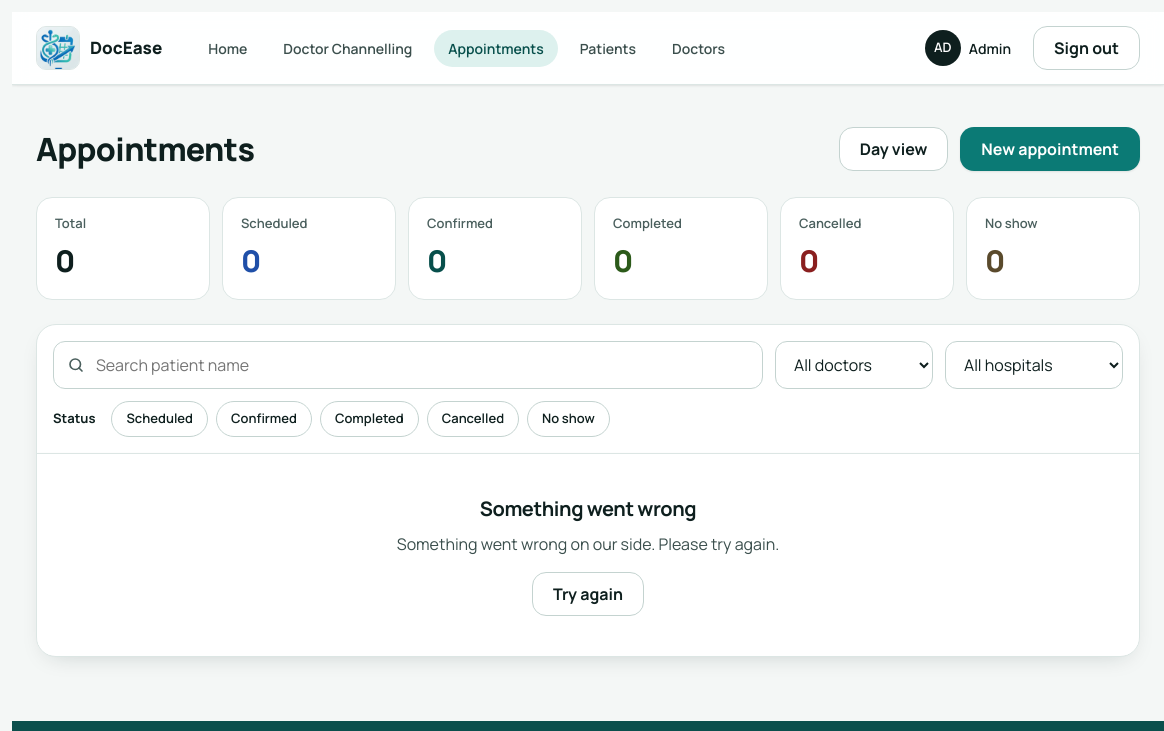
Test case: appointments list › shows an error state with a retry button
This screenshot has width=1164, height=731.
Click the button "Try again" at x=588, y=594, box [532,572,644,616]
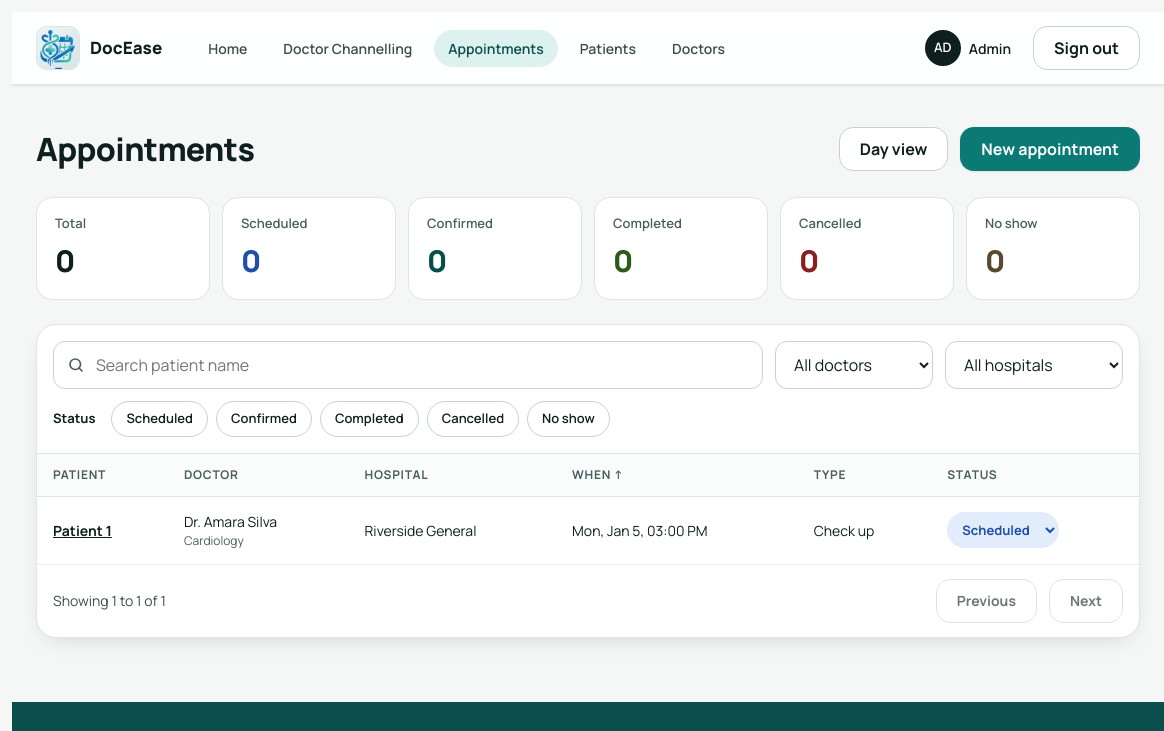
Check: the link "Patient 1" is shown, box [53,520,112,540]
